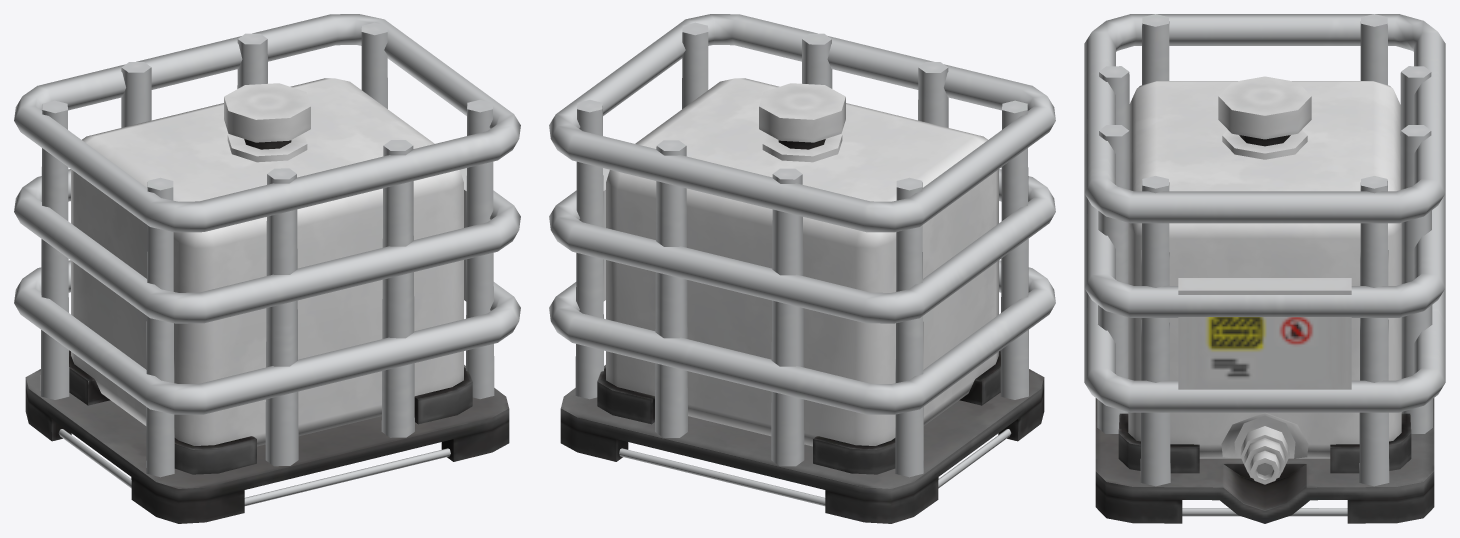
Rendered from Pfb_WaterTank.fbx.
3 views of the same model, side by side, from view 1: azimuth 30°, elevation 25°; view 2: azimuth 150°, elevation 25°; view 3: azimuth 270°, elevation 25° (orthographic). The views are drawn at different scales.
Visible parts, largest first — view 1: Mat_WaterTankButt_01_R1; view 2: Mat_WaterTankButt_01_R1; view 3: Mat_WaterTankButt_01_R1.
Part boxes in pixels (left/top/right/bottom): Mat_WaterTankButt_01_R1: left=14, top=14, right=520, bottom=523; Mat_WaterTankButt_01_R1: left=549, top=14, right=1055, bottom=523; Mat_WaterTankButt_01_R1: left=1084, top=14, right=1445, bottom=523.
Bounding box in the file's own units: 2.03 × 1.68 × 1.63.
1 material, 1 textured.
